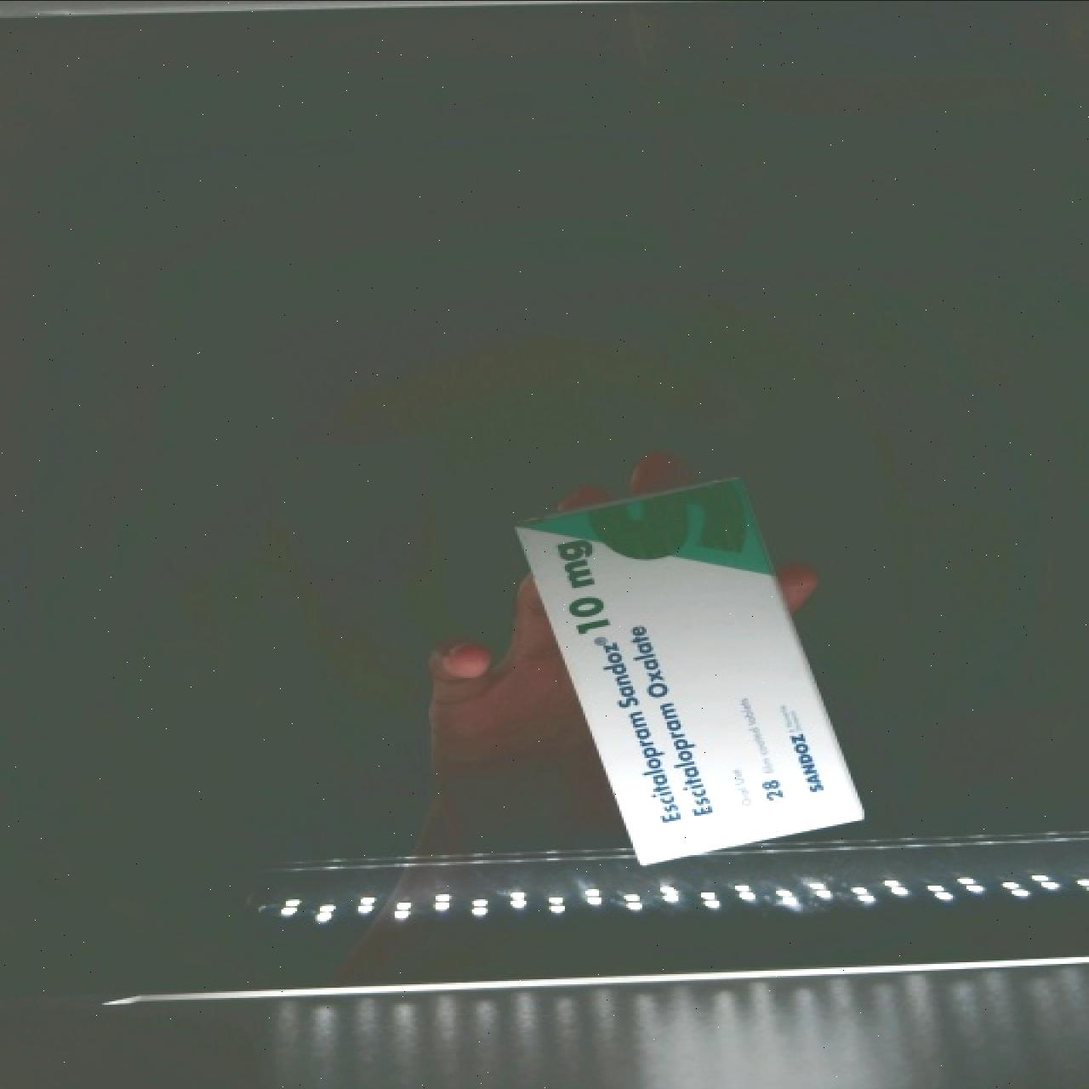medicine_label_obb: (573, 604, 738, 861)
